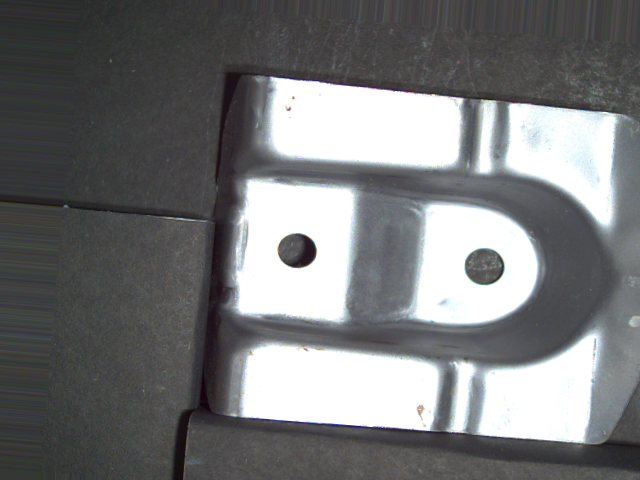defect: (462, 246, 508, 288)
